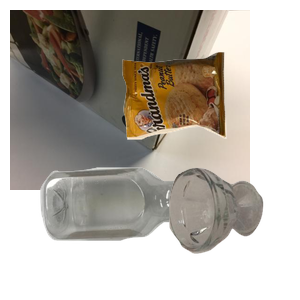cardboard: (10, 10, 250, 190)
glass: (166, 165, 300, 300)
plastic: (38, 165, 255, 300)
trash: (120, 50, 300, 182)
